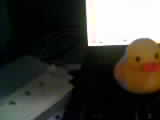duck: (105, 32, 155, 92)
